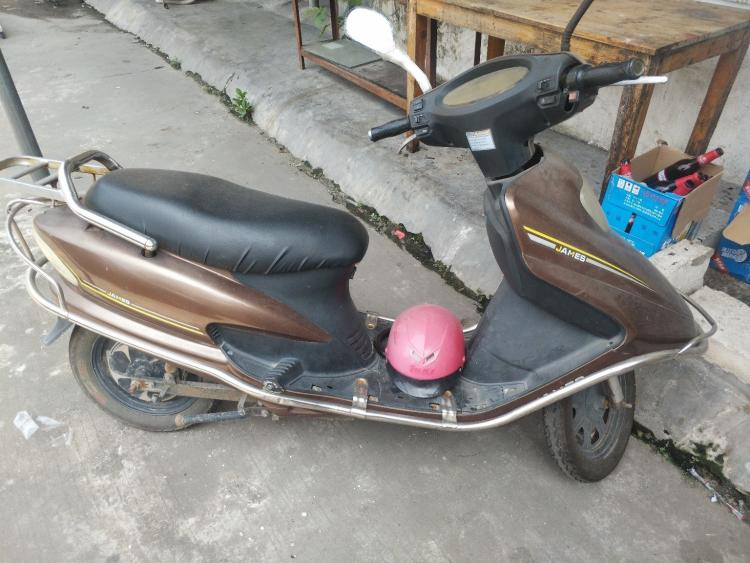电动车: (1, 6, 722, 484)
